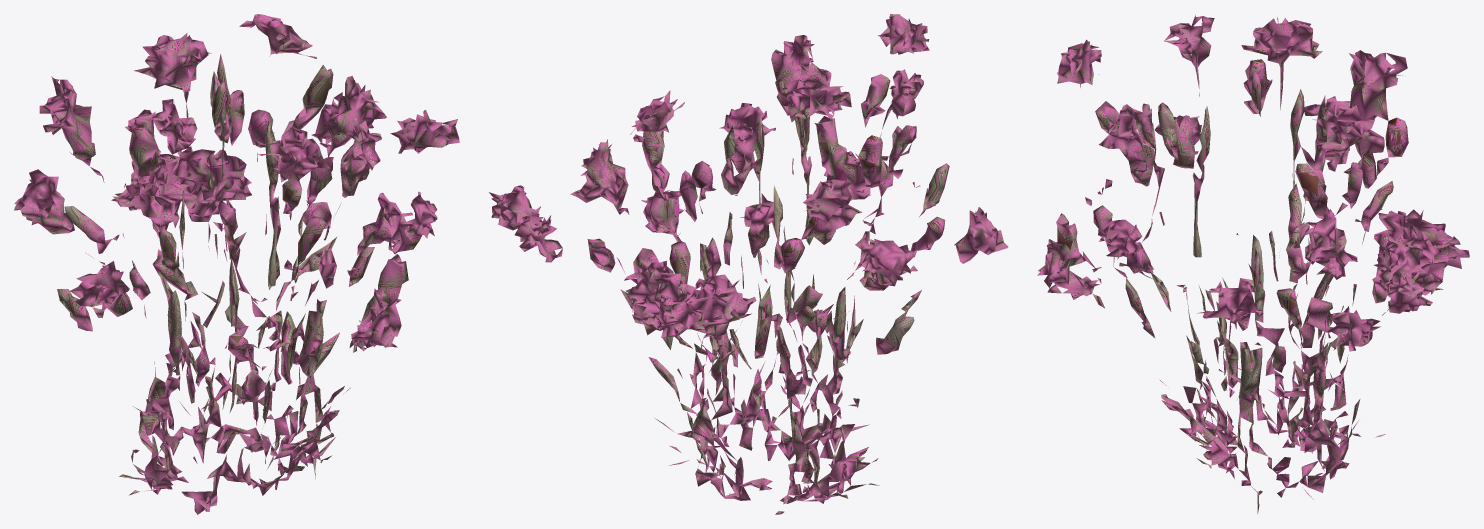
The picture shows the model from 3 angles, left to right: view 1: azimuth 30°, elevation 25°; view 2: azimuth 150°, elevation 25°; view 3: azimuth 270°, elevation 25°; orthographic projection. The views are drawn at different scales.
Size of the model in its own units: 1.96 by 1.87 by 1.66.
Materials: 1 (1 with a texture image).
